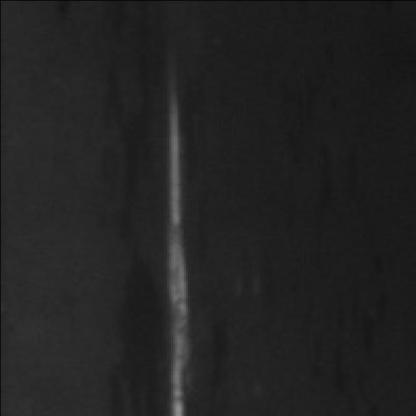scratches: (152, 87, 195, 416)
